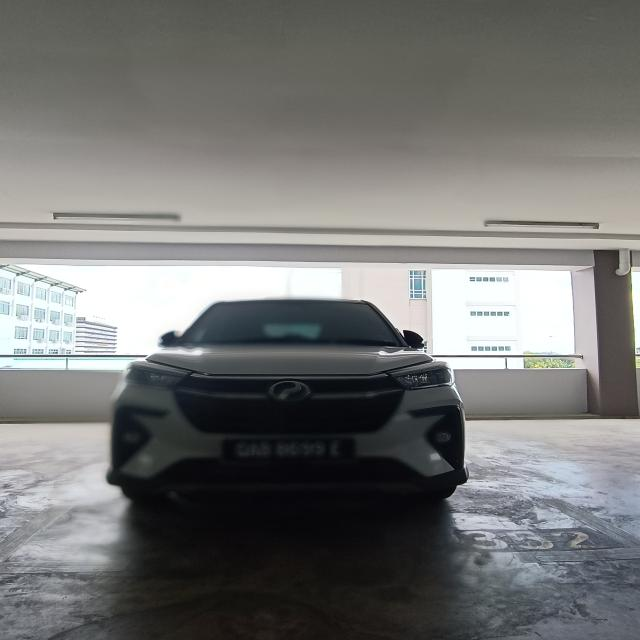PeroduaAtiva: (105, 296, 470, 505)
